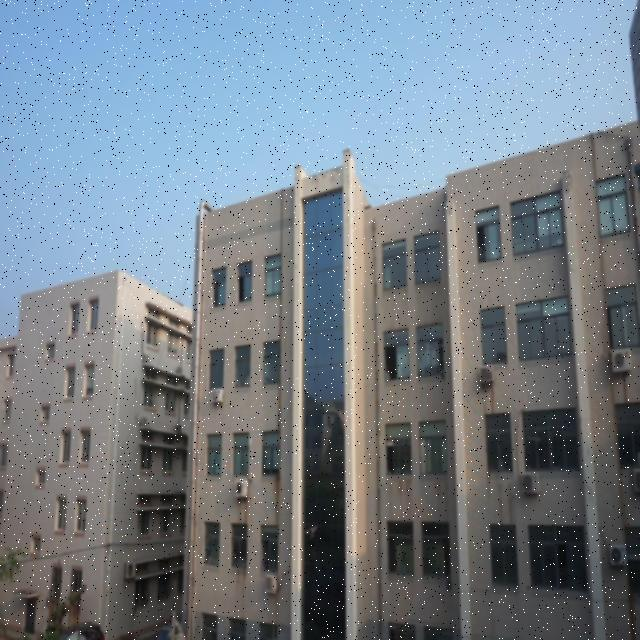UAV: (306, 526, 318, 538)
